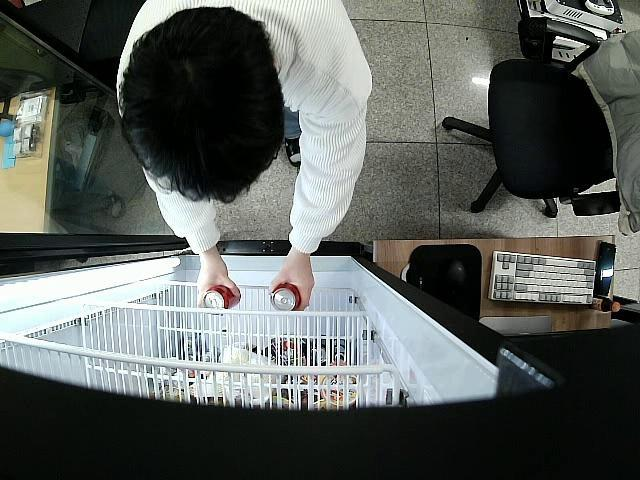11_cocaColaZero: (200, 282, 241, 312), (271, 282, 302, 308)
